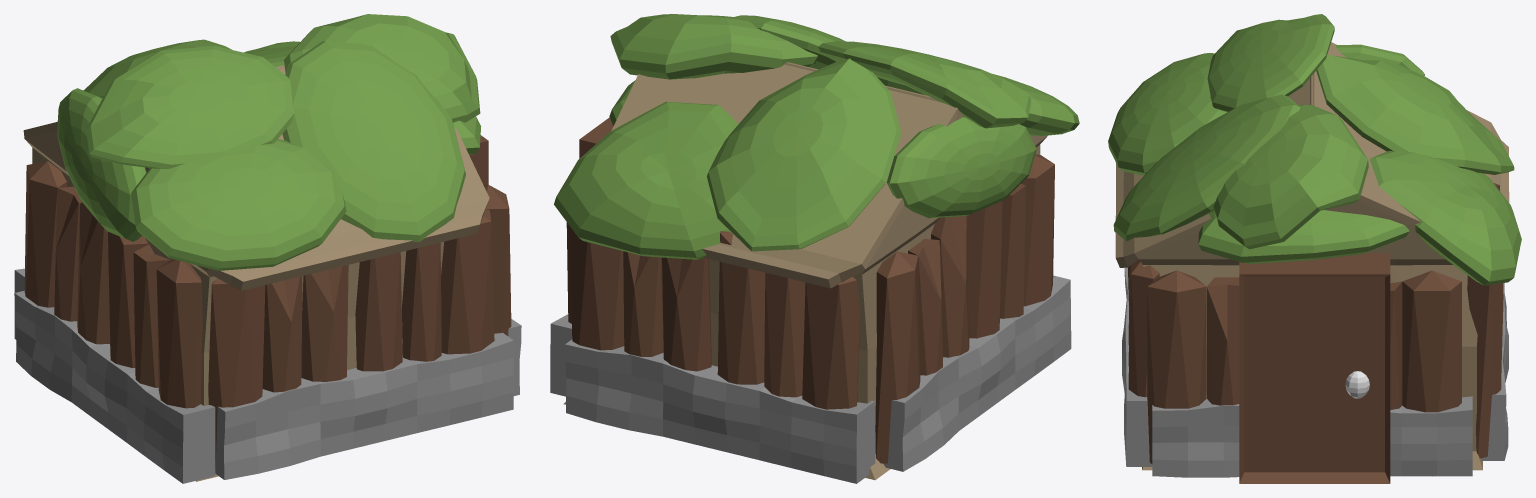
Rendered from cloversHouse.glb.
The picture shows the model from 3 angles, left to right: view 1: azimuth 30°, elevation 25°; view 2: azimuth 150°, elevation 25°; view 3: azimuth 270°, elevation 25°; orthographic projection. The views are drawn at different scales.
Visible parts, largest first — view 1: Cube; view 2: Cube; view 3: Cube.
Part boxes in pixels (x1,y1,x2,y2): Cube: (14,14,521,483); Cube: (550,14,1079,483); Cube: (1108,14,1521,483).
Bounding box in the file's own units: 7.69 × 6.55 × 7.3.
